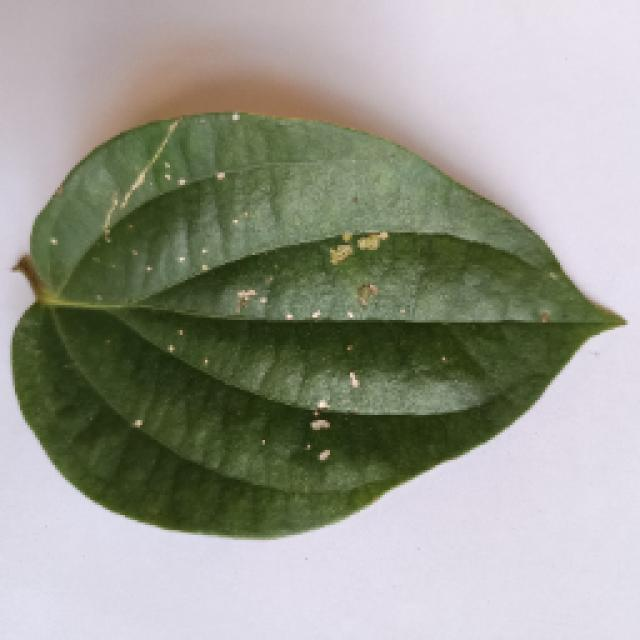pollu-disease: (8, 115, 620, 535)
